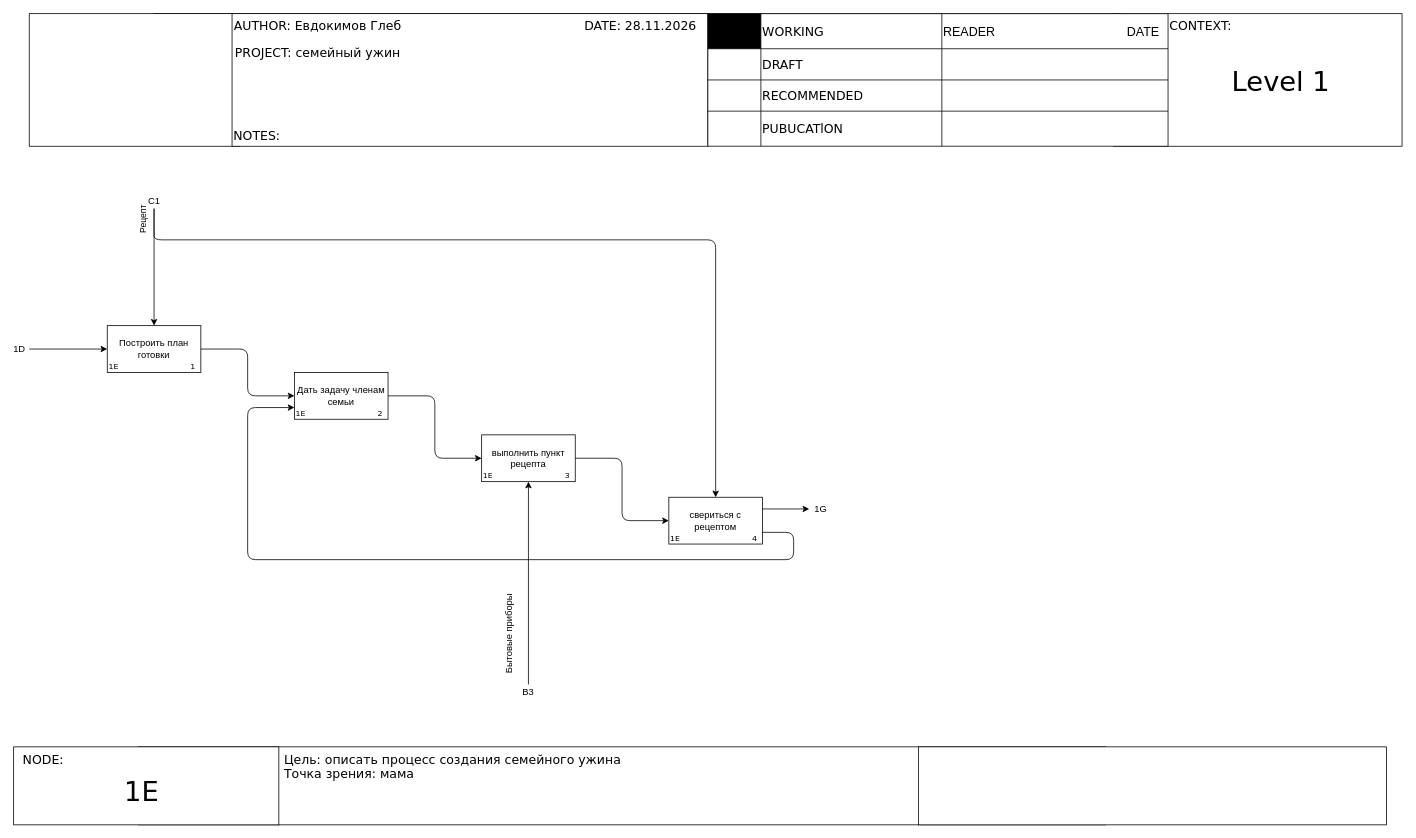
Image size: 1416x838. Some labels were removed from this diagram. The centre of each missing label's shape, as x and y in pixels:
"NUMBER:" goes at [1152,785].
"USET AT: РИС-26-3б проект" goes at [134,79].
